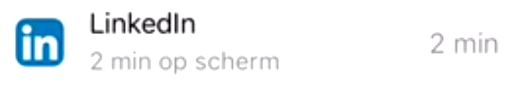name: (83, 6, 202, 39)
time: (86, 49, 155, 74)
